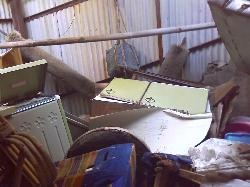washing_machine: (1, 57, 76, 164)
